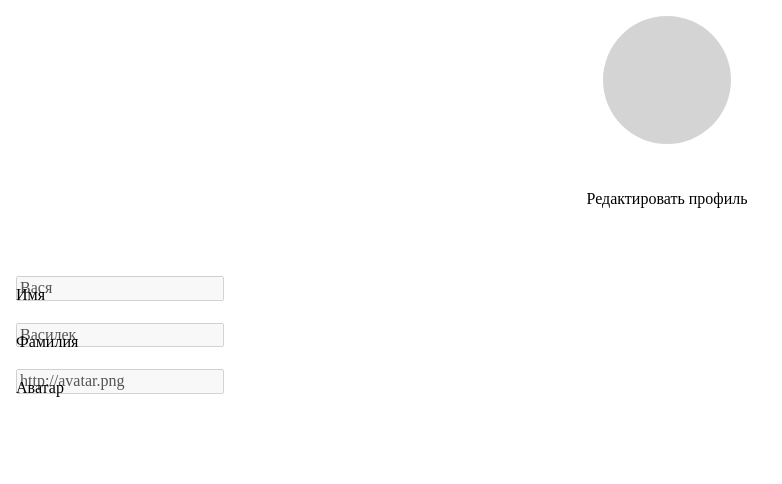
Test: user-form › should render 'save' and 'cancel' buttons when 'edit' button was pressed
The width and height of the screenshot is (782, 484).
Click the button "Редактировать профиль" at point(667, 199), box [568, 180, 766, 218]
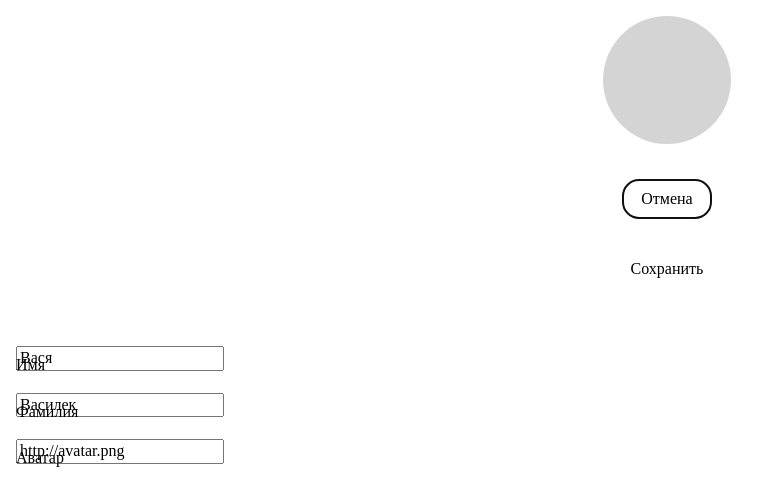
Check: the button "Отмена" is shown, box [623, 180, 711, 218]
